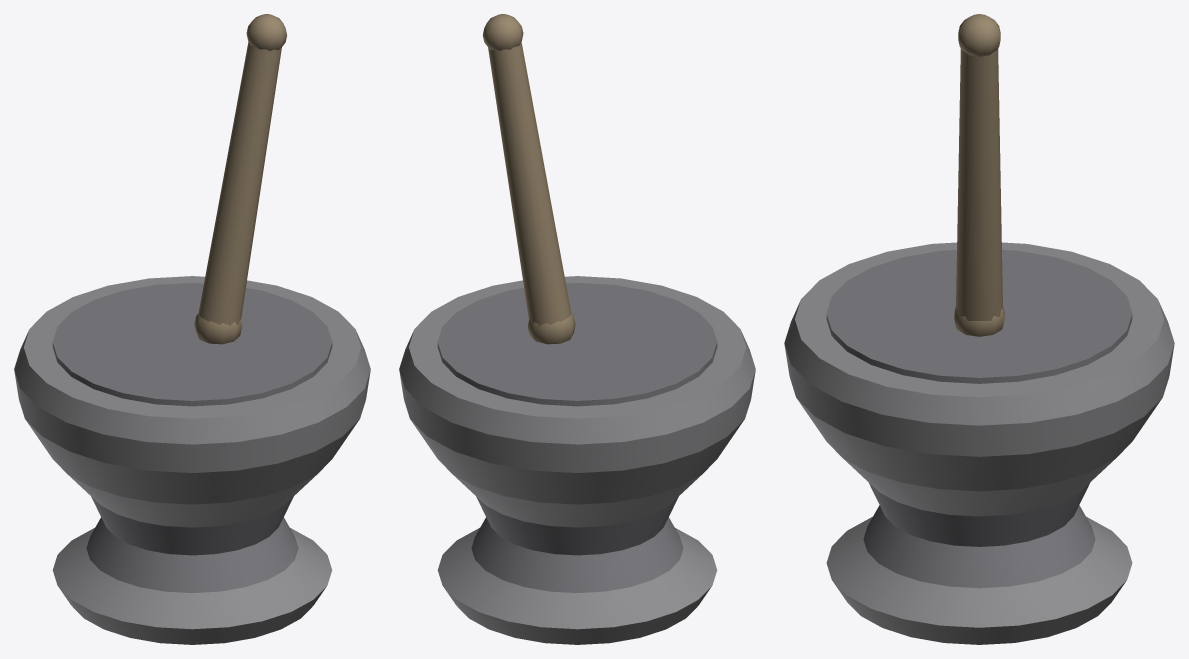
The model's file is tbal.glb.
3 views of the same model, side by side, from view 1: azimuth 30°, elevation 25°; view 2: azimuth 150°, elevation 25°; view 3: azimuth 270°, elevation 25° (orthographic). The views are drawn at different scales.
Bounding box in the file's own units: 1.48 × 2.55 × 1.48.
